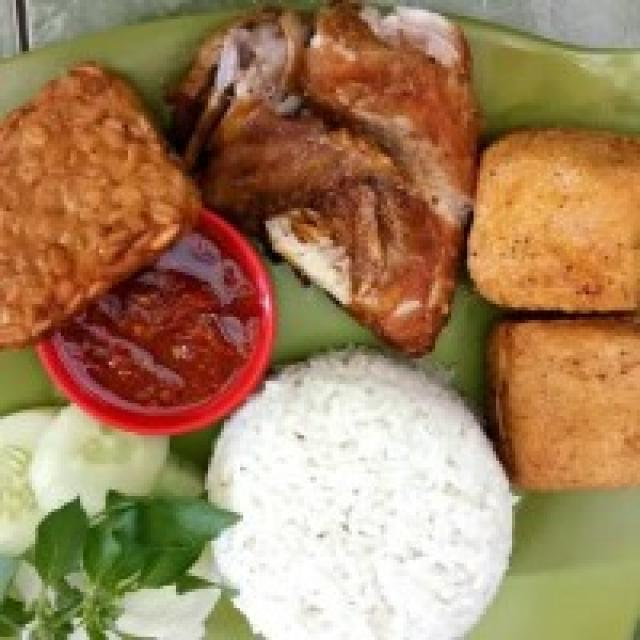ayam_goreng: (182, 20, 462, 358)
nasi_putih: (212, 364, 507, 640)
